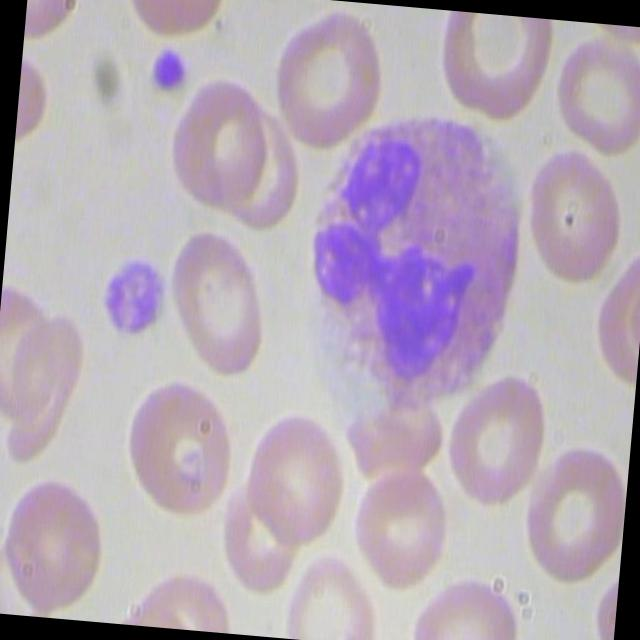Platelets: (99, 248, 174, 343), (144, 41, 195, 98)
RBC: (157, 216, 285, 380), (266, 2, 394, 161), (517, 136, 632, 304), (2, 466, 126, 610), (120, 377, 242, 521), (345, 444, 453, 598), (523, 436, 630, 590), (443, 366, 551, 510), (165, 68, 274, 210), (242, 402, 350, 542), (428, 9, 559, 120), (549, 20, 640, 157), (411, 557, 530, 640), (289, 546, 387, 640)
WBC: (284, 85, 547, 408)
